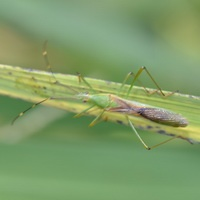insect: (5, 66, 199, 149)
